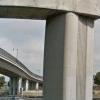Bridge: (11, 0, 98, 76)
